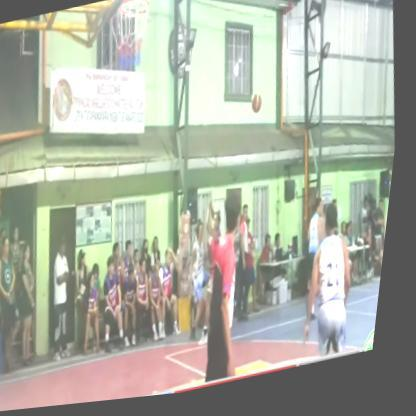basketball: (250, 93, 268, 125)
rim: (97, 0, 162, 94)
